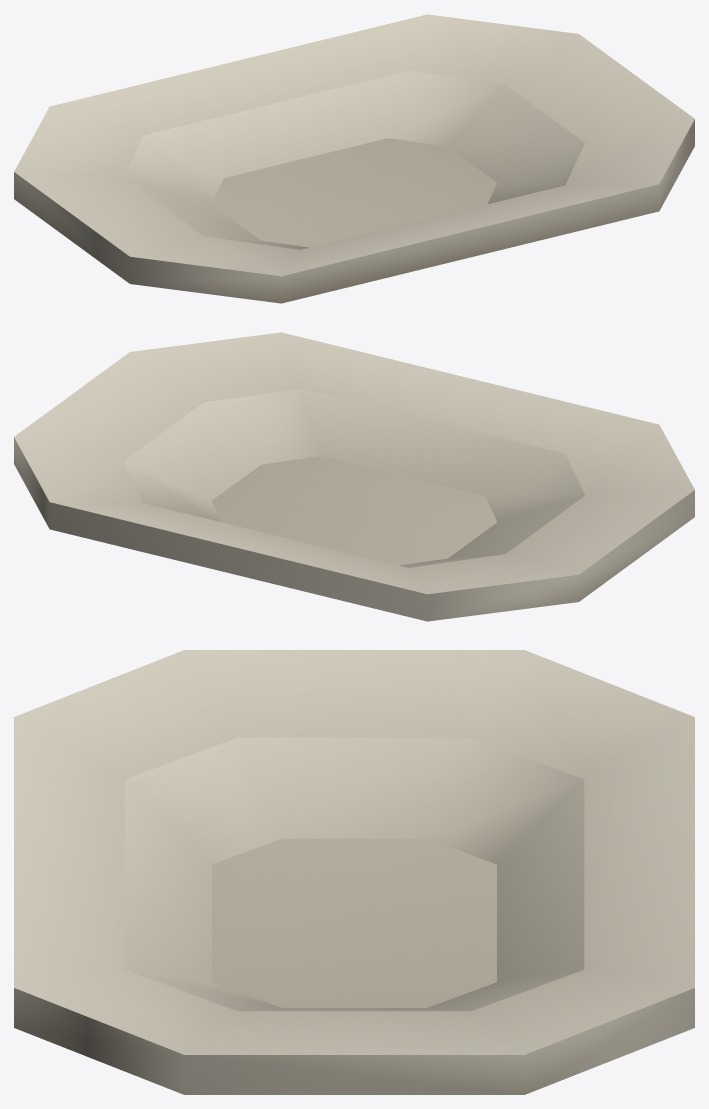
Rendered from plate_ceramic_oval.fbx.
The picture shows the model from 3 angles, top to bottom: view 1: azimuth 30°, elevation 25°; view 2: azimuth 150°, elevation 25°; view 3: azimuth 270°, elevation 25°; orthographic projection. The views are drawn at different scales.
Visible parts, largest first — view 1: plate_ceramic_oval; view 2: plate_ceramic_oval; view 3: plate_ceramic_oval.
Boxes of the visible parts, left/top/right/bottom form: plate_ceramic_oval: left=14, top=14, right=694, bottom=303; plate_ceramic_oval: left=14, top=332, right=694, bottom=621; plate_ceramic_oval: left=14, top=650, right=694, bottom=1094.
Size of the model in its own units: 65.03 by 6.82 by 46.22.
